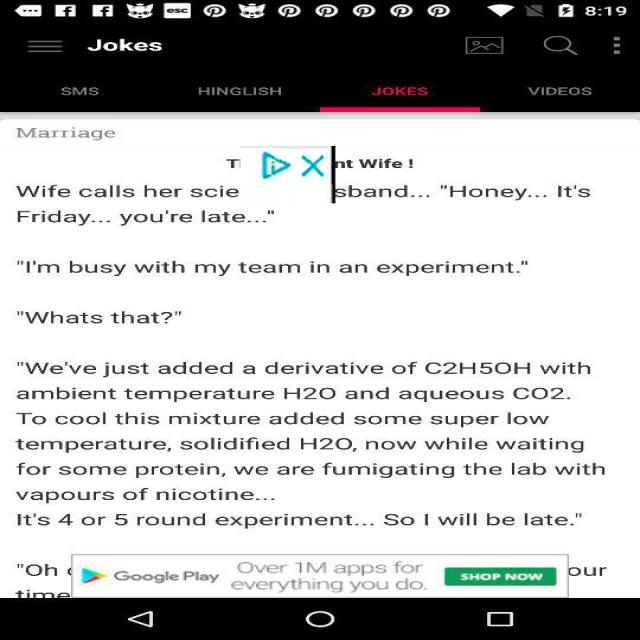sneaking: (240, 146, 336, 203)
